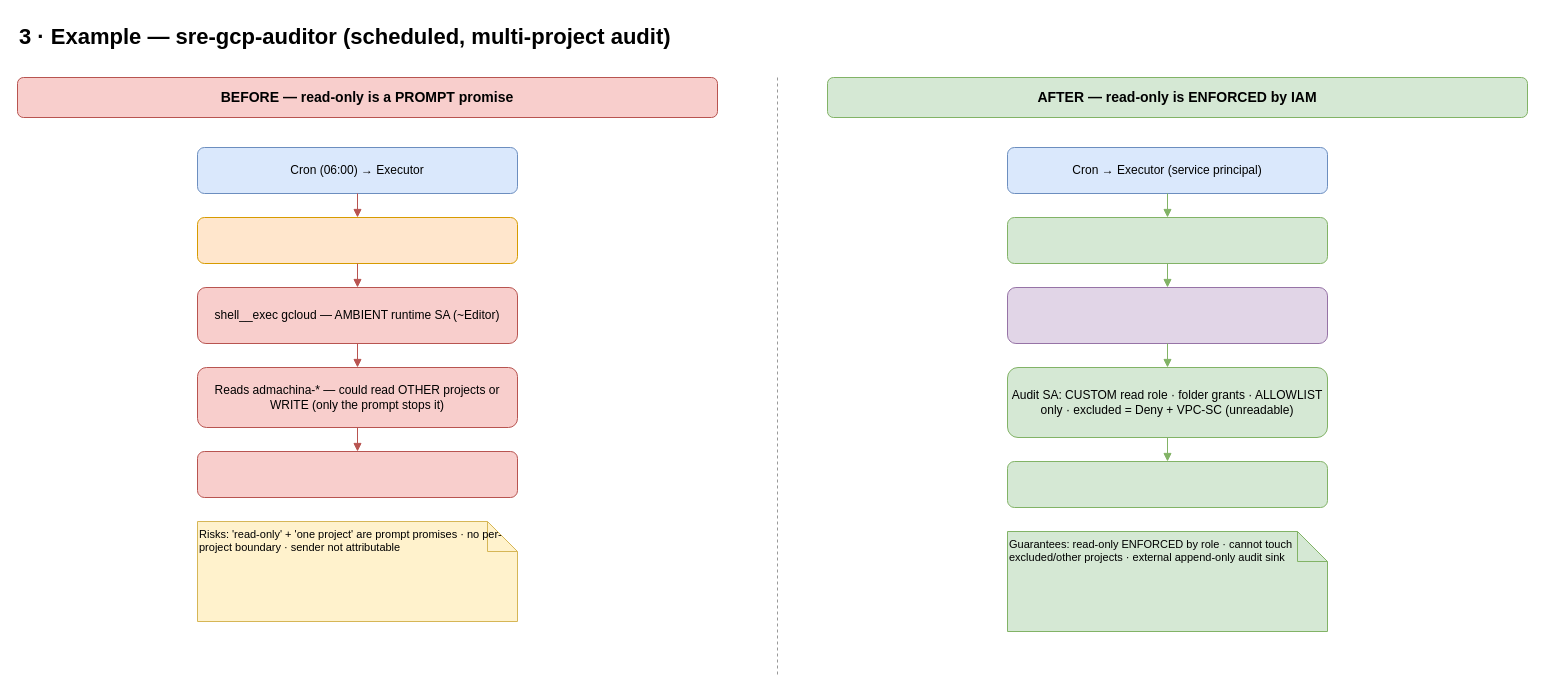
Some shapes in this 1545 by 696 pixel diagram are drawn without their labels. Each missing label, with the centre of its shape:
"Auditor agent (gemini-2.5-pro)" belongs at [357,240].
"Auditor agent (service identity, Plane B)" belongs at [1167,240].
"Credential Broker mints short-lived token → impersonates AUDIT SA" belongs at [1167,315].
"Emails report AS antoni (global Workspace token)" belongs at [357,474].
"Emails via service mailbox (attributed); per-user if user-triggered" belongs at [1167,484].
